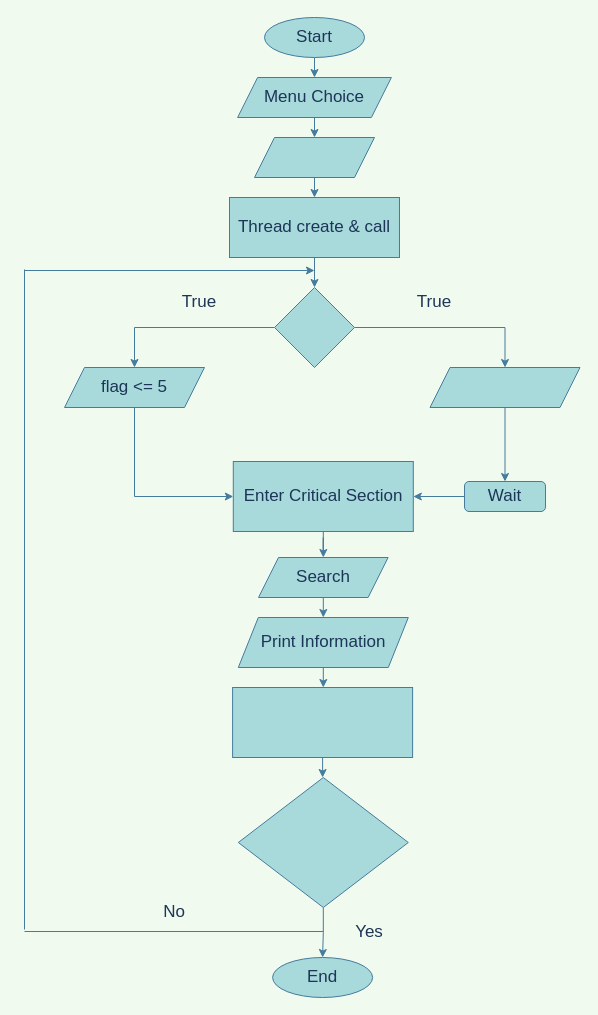
This 598x1015 diagram has some shape labels left out. Here are the shapes that lost their labels. From the top down, the box of each, then its label:
(254, 136, 374, 178): Input
(274, 286, 354, 368): flag
(429, 366, 580, 408): flag > 5
(232, 686, 413, 758): Leave Critical Section
(237, 776, 408, 908): Last Keyword?
